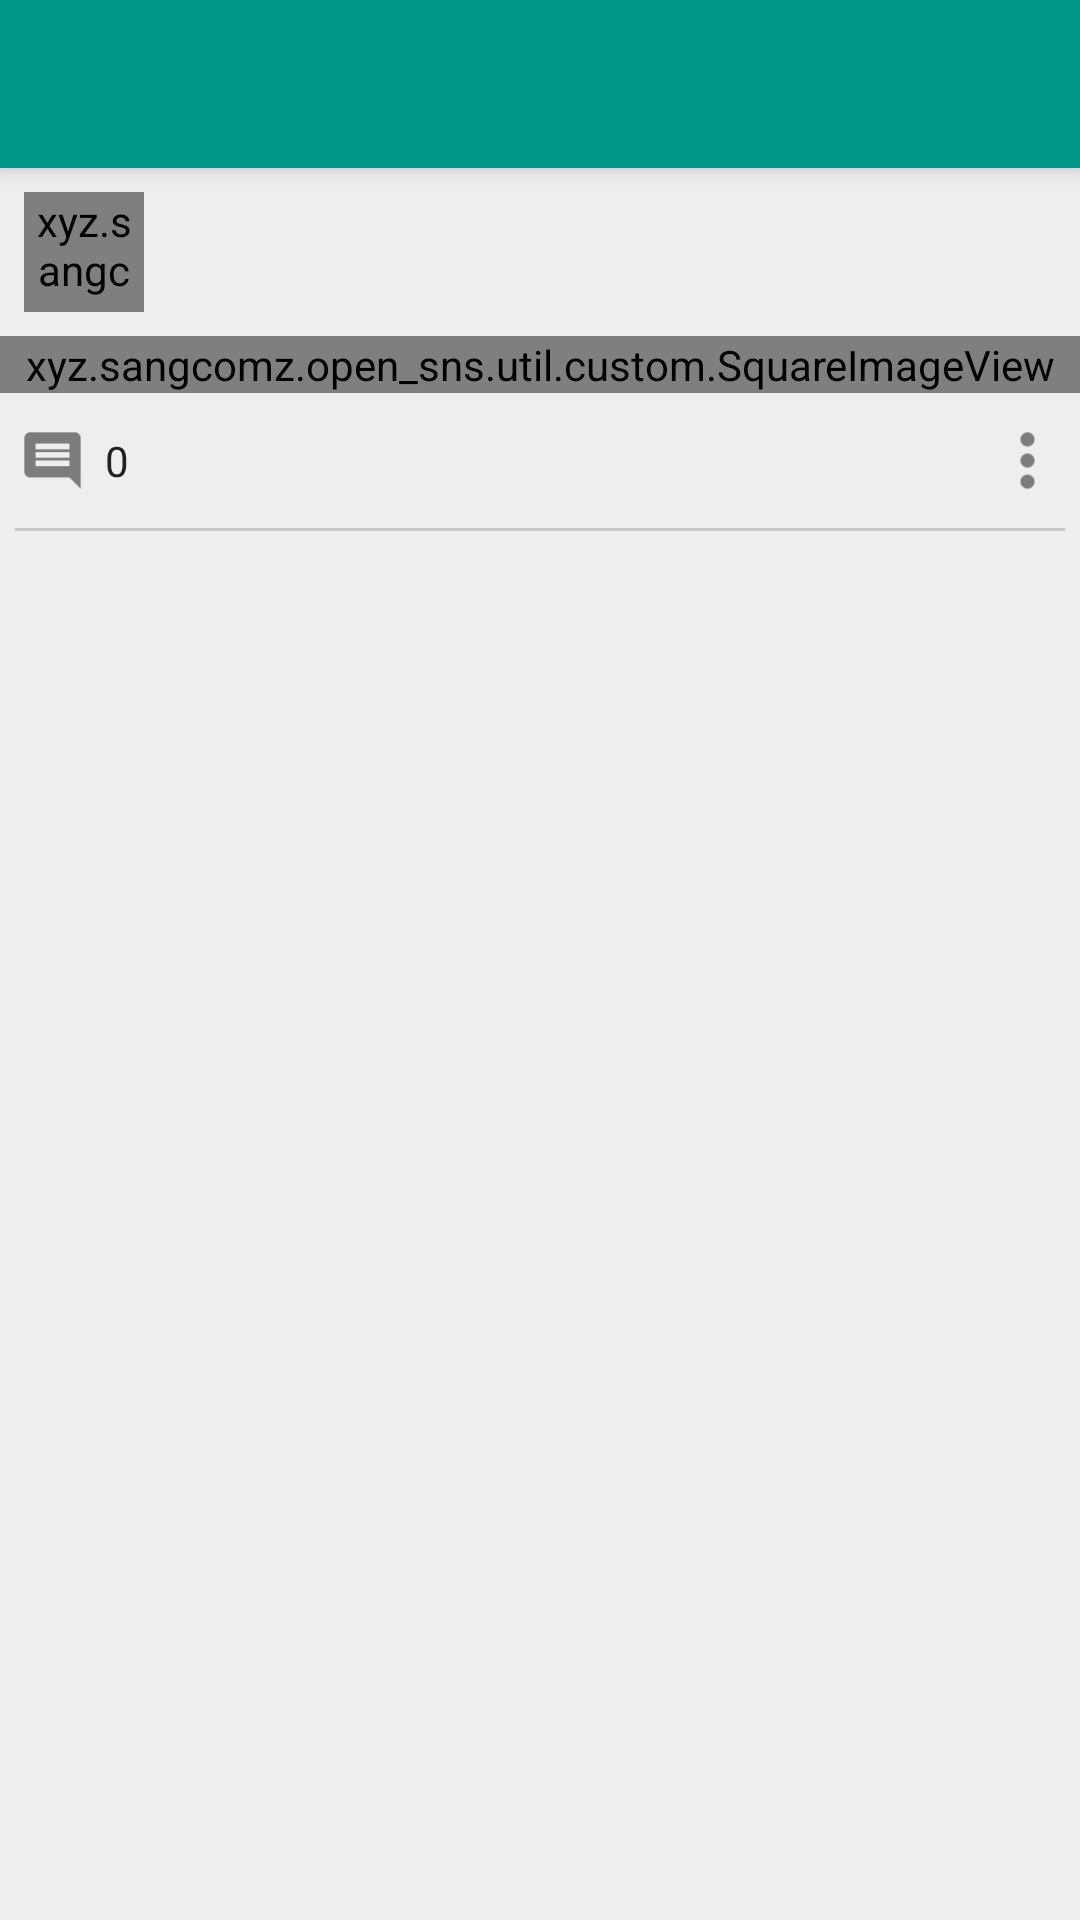

Named icons in this screenshot (1080x1920) and their centers, [x,y]:
comment: [52,460]
more vert: [1027,460]
